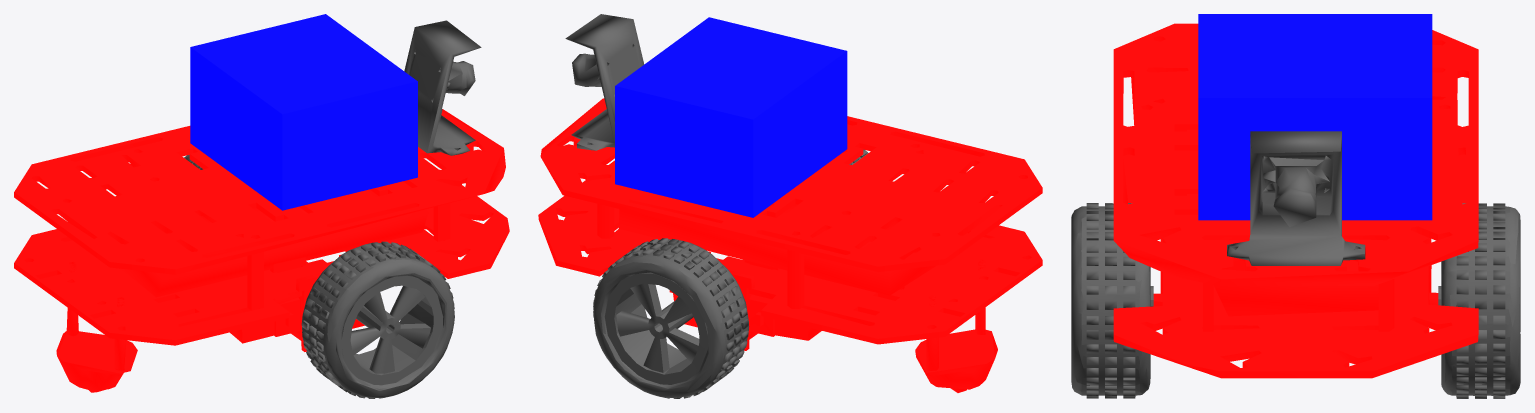
Rendered from duckiebot.dae.
3 renders of one model, left to right at view 1: azimuth 30°, elevation 25°; view 2: azimuth 150°, elevation 25°; view 3: azimuth 270°, elevation 25°, orthographic. The views are drawn at different scales.
Parts seen in each view (by area): view 1: chassis_package___duckiebot_description_meshes_duckiebotFram, Cube_Cube_001, right_wheel_package___duckiebot_description_meshes_duckiebot, camera_package___duckiebot_description_meshes_duckiebot_came; view 2: chassis_package___duckiebot_description_meshes_duckiebotFram, Cube_Cube_001, left_wheel_package___duckiebot_description_meshes_duckiebot_, camera_package___duckiebot_description_meshes_duckiebot_came; view 3: chassis_package___duckiebot_description_meshes_duckiebotFram, Cube_Cube_001, camera_package___duckiebot_description_meshes_duckiebot_came, left_wheel_package___duckiebot_description_meshes_duckiebot_, right_wheel_package___duckiebot_description_meshes_duckiebot.
Part boxes in pixels (left/top/right/bottom): chassis_package___duckiebot_description_meshes_duckiebotFram: left=14, top=109, right=509, bottom=392; Cube_Cube_001: left=190, top=14, right=417, bottom=210; right_wheel_package___duckiebot_description_meshes_duckiebot: left=301, top=241, right=454, bottom=398; camera_package___duckiebot_description_meshes_duckiebot_came: left=404, top=20, right=481, bottom=155; chassis_package___duckiebot_description_meshes_duckiebotFram: left=538, top=98, right=1042, bottom=392; Cube_Cube_001: left=615, top=17, right=847, bottom=217; left_wheel_package___duckiebot_description_meshes_duckiebot_: left=593, top=238, right=749, bottom=398; camera_package___duckiebot_description_meshes_duckiebot_came: left=565, top=14, right=644, bottom=150; chassis_package___duckiebot_description_meshes_duckiebotFram: left=1113, top=23, right=1478, bottom=378; Cube_Cube_001: left=1198, top=14, right=1432, bottom=220; camera_package___duckiebot_description_meshes_duckiebot_came: left=1227, top=131, right=1365, bottom=265; left_wheel_package___duckiebot_description_meshes_duckiebot_: left=1438, top=203, right=1520, bottom=398; right_wheel_package___duckiebot_description_meshes_duckiebot: left=1071, top=203, right=1153, bottom=398.
Size of the model in its own units: 0.1998 by 0.1472 by 0.123.
